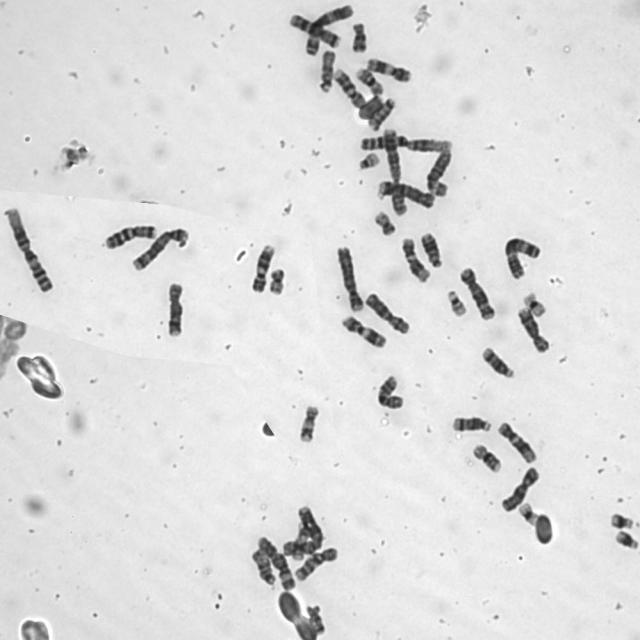A1: (0, 203, 56, 294), (356, 132, 454, 154)
A2: (379, 124, 408, 218), (280, 503, 326, 559)
A3: (302, 1, 355, 57), (502, 233, 543, 281)
B4: (333, 242, 367, 314), (374, 177, 436, 210)
B5: (129, 224, 191, 272), (457, 264, 497, 322)
C10: (293, 544, 340, 583), (374, 372, 406, 410)
C11: (338, 312, 388, 349), (364, 54, 413, 84)
C12: (494, 419, 538, 464), (398, 235, 432, 284)
C6: (254, 532, 296, 592), (424, 142, 454, 198)
C7: (285, 9, 343, 49), (102, 220, 159, 250)
C8: (514, 302, 552, 354), (163, 278, 187, 340)
C9: (330, 65, 369, 109), (250, 241, 278, 293)
D13: (365, 97, 396, 133), (418, 228, 444, 269)
D14: (478, 343, 516, 380), (448, 412, 494, 434)
D15: (248, 546, 277, 587), (316, 47, 337, 94)
E16: (469, 440, 504, 474), (352, 65, 385, 97)
E17: (296, 399, 321, 444), (290, 522, 312, 562)
E18: (304, 602, 328, 638), (348, 18, 369, 55)
F19: (520, 288, 549, 317), (517, 500, 539, 527)
F20: (371, 208, 397, 237), (266, 264, 287, 296)
G21: (606, 506, 637, 530), (612, 526, 639, 550)
G22: (443, 286, 469, 318), (355, 149, 381, 171)
X: (362, 289, 411, 336), (498, 463, 542, 513)
